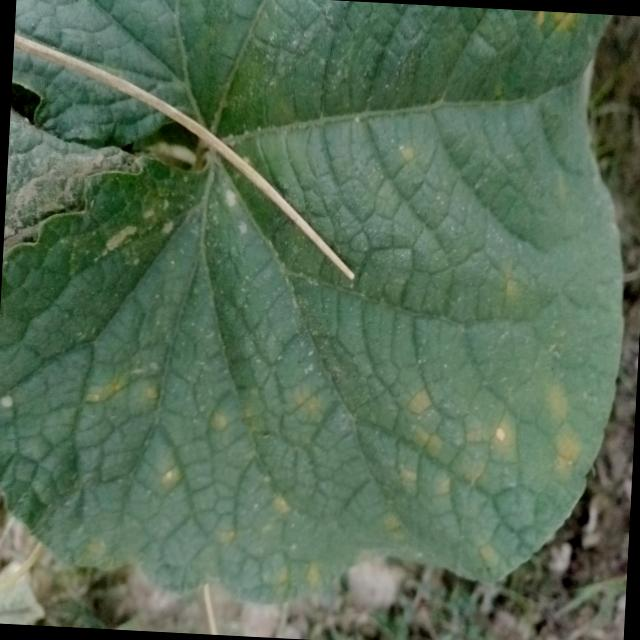cucumber_downy: (0, 212, 618, 593), (282, 0, 601, 348)
